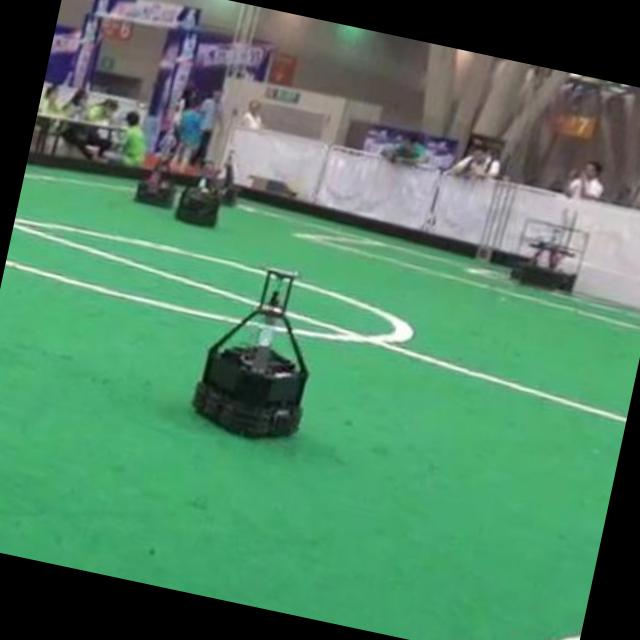robot: (192, 268, 308, 436), (511, 219, 589, 291), (175, 164, 220, 226), (134, 156, 175, 208), (218, 154, 237, 206)
